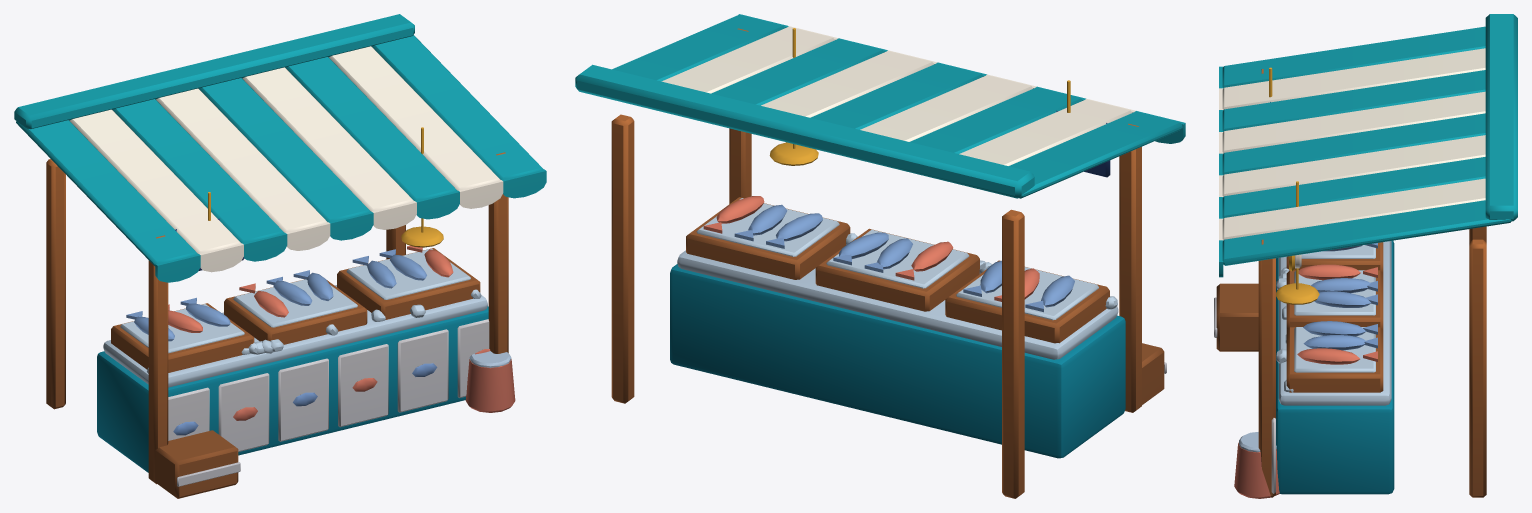
Rendered from fish_market.glb.
The picture shows the model from 3 angles, left to right: view 1: azimuth 30°, elevation 25°; view 2: azimuth 150°, elevation 25°; view 3: azimuth 270°, elevation 25°; orthographic projection. The views are drawn at different scales.
Parts seen in each view (by area): view 1: fish_market; view 2: fish_market; view 3: fish_market.
Boxes of the visible parts, x1,y1,x2,y2 form: fish_market: (14,14,546,498); fish_market: (575,14,1185,498); fish_market: (1214,14,1517,498).
Bounding box in the file's own units: 4.3 × 3.08 × 2.82.
